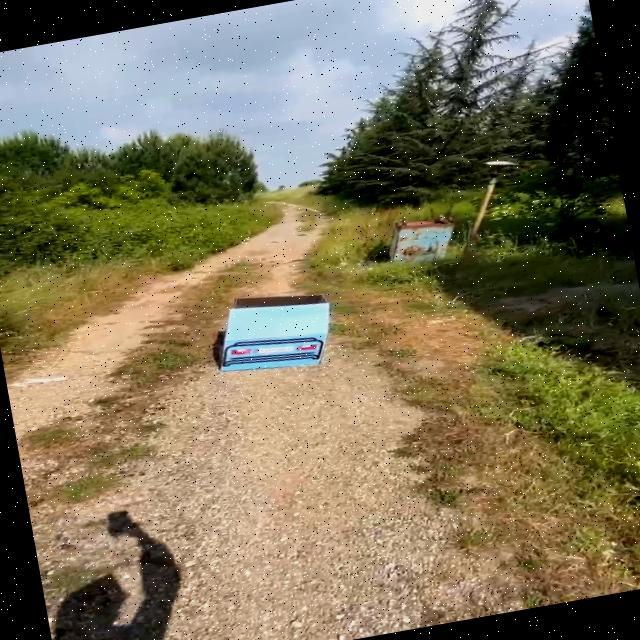blue_car: (200, 272, 343, 385)
